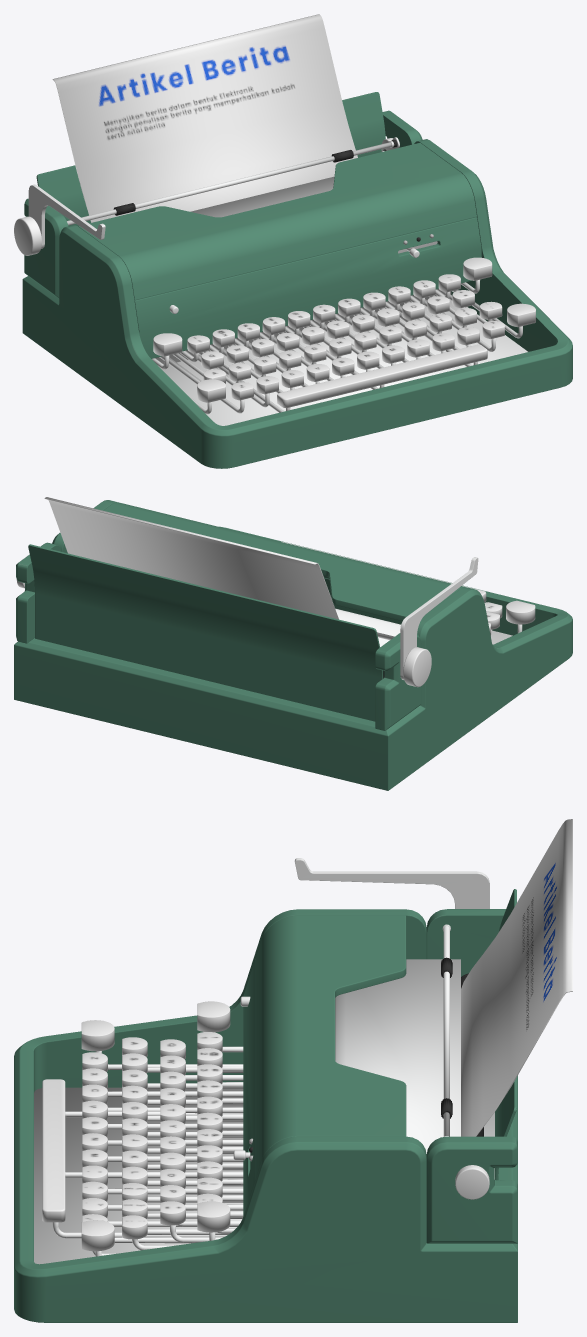
Rendered from MesinKetik.glb.
3 views of the same model, one above another, from view 1: azimuth 30°, elevation 25°; view 2: azimuth 150°, elevation 25°; view 3: azimuth 270°, elevation 25° (orthographic). The views are drawn at different scales.
Visible parts, largest first — view 1: Typewriter; view 2: Typewriter; view 3: Typewriter.
Part boxes in pixels (x1,y1,x2,y2): Typewriter: (14,14,572,468); Typewriter: (14,497,572,790); Typewriter: (14,819,572,1322).
Size of the model in its own units: 2.13 by 1.17 by 1.99.
Materials: 1 (1 with a texture image).
